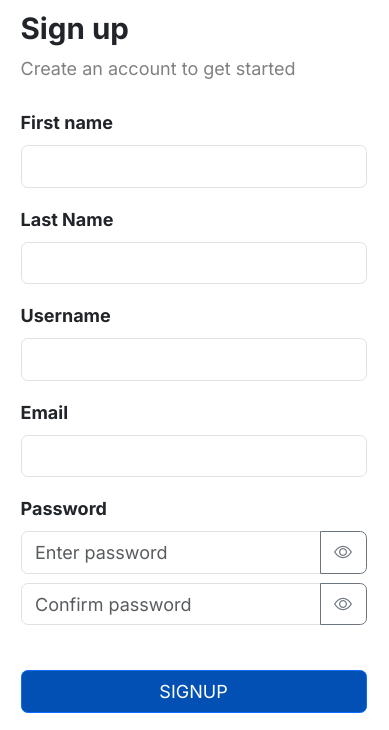
Test: Signup page (Vitest) › shows error when signup fails
Fill in form fields with matching passwords
Type "John" into the field labelled "First name".
click(194, 167); type("John")  # box [20, 146, 366, 188]
Type "Doe" into the field labelled "Last Name".
click(194, 263); type("Doe")  # box [20, 242, 366, 284]
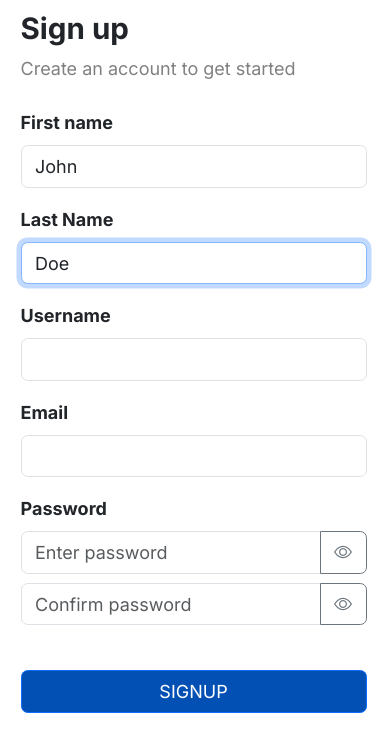
Type "johndoe" into the field labelled "Username".
click(194, 360); type("johndoe")  # box [20, 338, 366, 381]
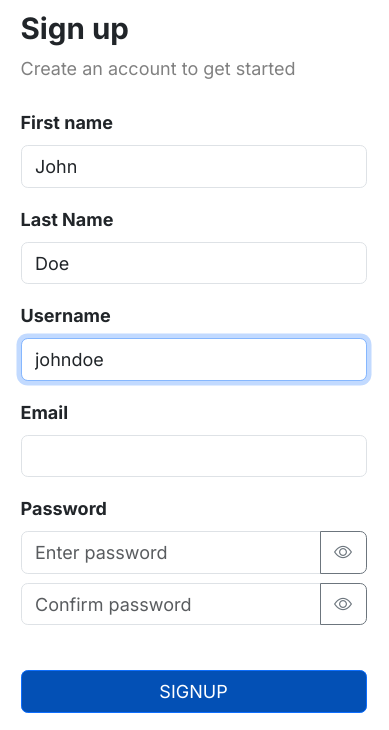
Type "john@example.com" into the field labelled "Email".
click(194, 456); type("john@example.com")  # box [20, 435, 366, 478]
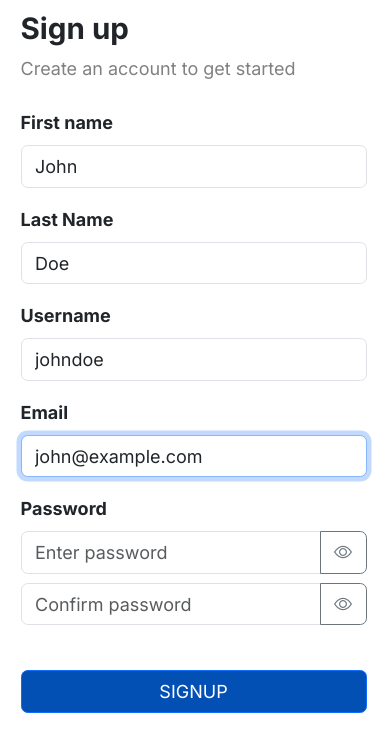
Type "password123" into the password field with placeholder "Enter password".
click(170, 553); type("password123")  # box [20, 532, 320, 574]
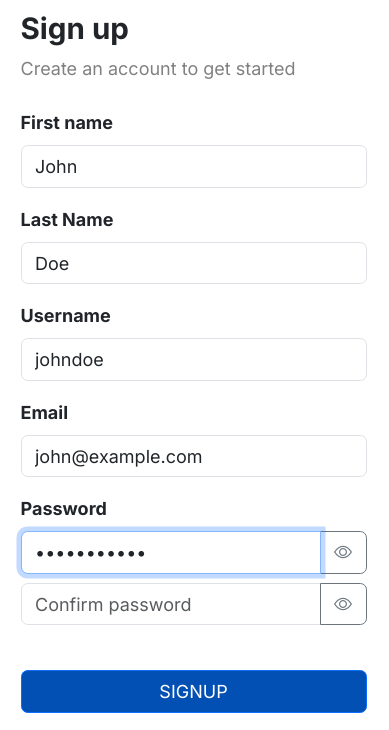
Type "password123" into the password field with placeholder "Confirm password".
click(170, 604); type("password123")  # box [20, 583, 320, 626]
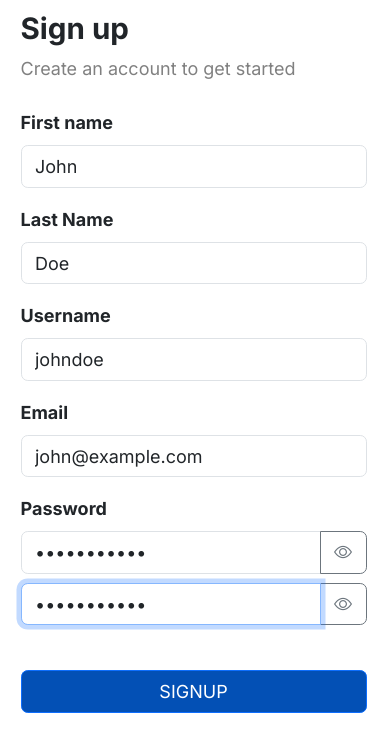
Submit form
Click the button "SIGNUP".
click(194, 692)  # box [20, 670, 366, 713]
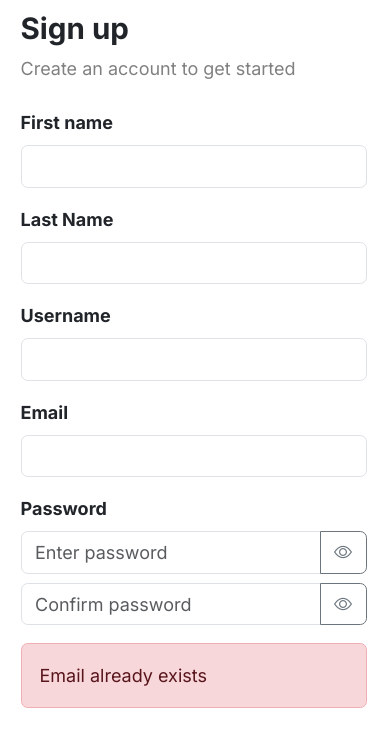
Now the text "Email already exists" is shown, box [20, 644, 366, 708]
